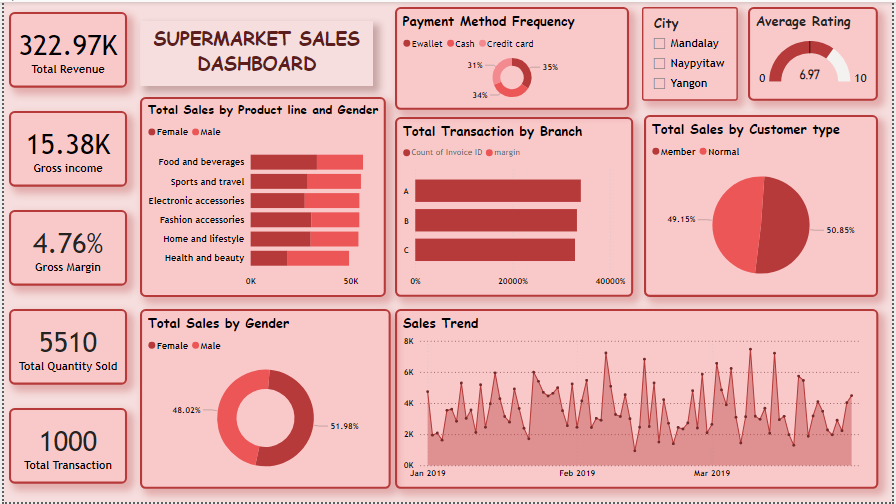

The dashboard page shown, as its layout file describes it:
{"tool":"powerbi","page":{"name":"Page 1","canvas":[1280,720],"ordinal":0},"visuals":[{"type":"areaChart","title":"Sales Trend","fields":{"Category":["supermart.Date.Variation.Date Hierarchy.Year","supermart.Date.Variation.Date Hierarchy.Month","supermart.Date.Variation.Date Hierarchy.Day"],"Y":["Sum(supermart.Total)"]},"box":[563,442.1,695.5,259.2],"z":0},{"type":"donutChart","title":"Total Sales by Gender","fields":{"Category":["Sheet1 (2).Gender"],"Y":["Sum(Sheet1 (2).Total)"]},"box":[195.8,442.1,361.4,259.2],"z":1000},{"type":"pieChart","title":"Total Sales by Customer type","fields":{"Category":["Sheet1 (2).Customer type"],"Y":["Sum(Sheet1 (2).Total)"]},"box":[921.6,162.7,337,262.1],"z":2000},{"type":"card","fields":{"Values":["Sum(Sheet1 (2).Total)"]},"box":[7.2,14.4,169.9,109.4],"z":3000},{"type":"card","fields":{"Values":["Count(Sheet1 (2).Invoice ID)"]},"box":[7.2,584.6,169.9,109.4],"z":4000},{"type":"card","fields":{"Values":["Sum(Sheet1 (2).Tax 5%)"]},"box":[240.5,243.4,161.3,128.2],"z":5000},{"type":"gauge","fields":{"Y":["Avg(Sheet1 (2).Rating)"]},"box":[1071.4,7.2,187.2,135.4],"z":6000},{"type":"barChart","title":"Total Transaction by Branch","fields":{"Y":["Count(Sheet1 (2).Invoice ID)","supermart.margin"],"Category":["Sheet1 (2).Branch"]},"box":[563,165.6,342.7,259.2],"z":7000},{"type":"barChart","title":"Total Sales by Product line and Gender","fields":{"Category":["Sheet1 (2).Product line"],"Y":["Sum(Sheet1 (2).Total)"],"Series":["Sheet1 (2).Gender"]},"box":[195.8,136.8,354.2,288],"z":8000},{"type":"donutChart","title":"Payment Method Frequency","fields":{"Y":["CountNonNull(Sheet1 (2).Payment)"],"Category":["Sheet1 (2).Payment"]},"box":[563,7.2,337,148.3],"z":9000},{"type":"slicer","fields":{"Values":["supermart.City"]},"box":[918.7,7.2,138.2,135.4],"z":10000},{"type":"textbox","box":[195.8,27.4,335.5,93.6],"z":11000},{"type":"card","fields":{"Values":["Sum(supermart.Quantity)"]},"box":[7.2,442.1,169.9,109.4],"z":12000},{"type":"card","fields":{"Values":["Sum(supermart.gross income)"]},"box":[7.2,157,169.9,109.4],"z":13000},{"type":"card","fields":{"Values":["supermart.margin"]},"box":[7.2,299.5,169.9,109.4],"z":14000}]}

Visuals, with their boxes in screenshot pixels (x1, y1, x2, y2), scaled from the page's 1280x720 canvas onto the 896x504 screenshot:
"Sales Trend" areaChart: 394/309/881/491
"Total Sales by Gender" donutChart: 137/309/390/491
"Total Sales by Customer type" pieChart: 645/114/881/297
card - Sum(Sheet1 (2).Total): 5/10/124/87
card - Count(Sheet1 (2).Invoice ID): 5/409/124/486
card - Sum(Sheet1 (2).Tax 5%): 168/170/281/260
gauge - Avg(Sheet1 (2).Rating): 750/5/881/100
"Total Transaction by Branch" barChart: 394/116/634/297
"Total Sales by Product line and Gender" barChart: 137/96/385/297
"Payment Method Frequency" donutChart: 394/5/630/109
slicer - supermart.City: 643/5/740/100
textbox: 137/19/372/85
card - Sum(supermart.Quantity): 5/309/124/386
card - Sum(supermart.gross income): 5/110/124/186
card - supermart.margin: 5/210/124/286
